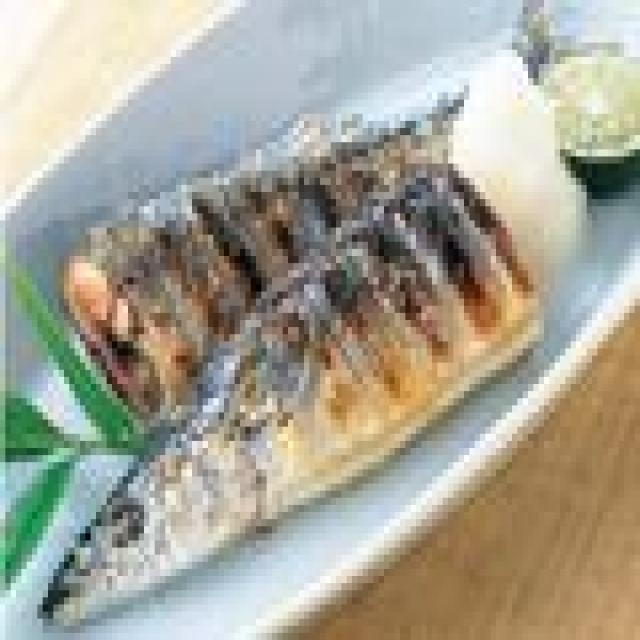熟制海鲜: (22, 85, 550, 598)
